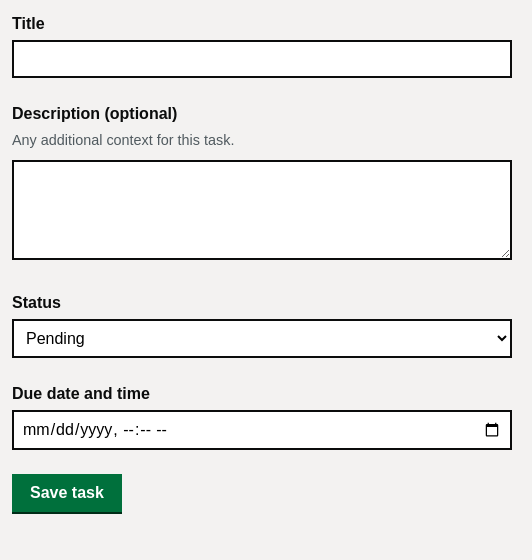
it: TaskForm › shows validation error when due date is missing
Type "My task" into the field labelled "Title".
click(262, 59); type("My task")  # box left=12, top=40, right=512, bottom=78
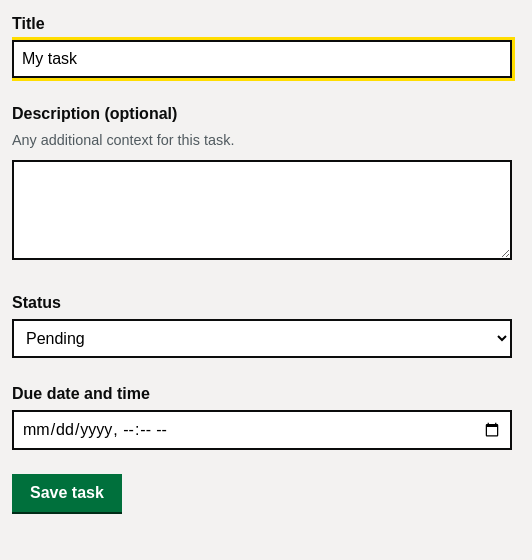
Click the button "Save task".
click(67, 493)  # box left=12, top=474, right=122, bottom=512
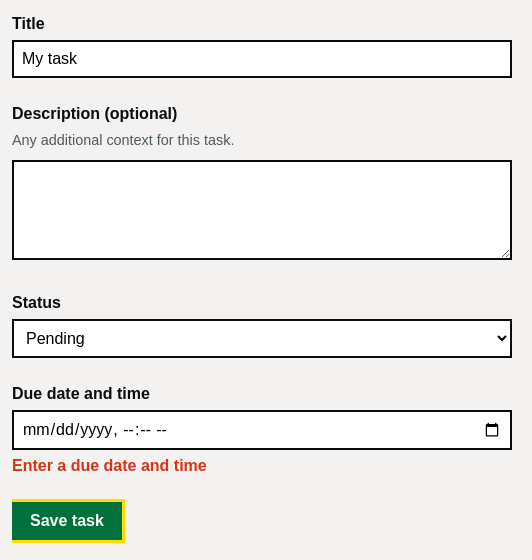
expect the text "Enter a due date and time" is shown: met, box left=12, top=457, right=207, bottom=474
